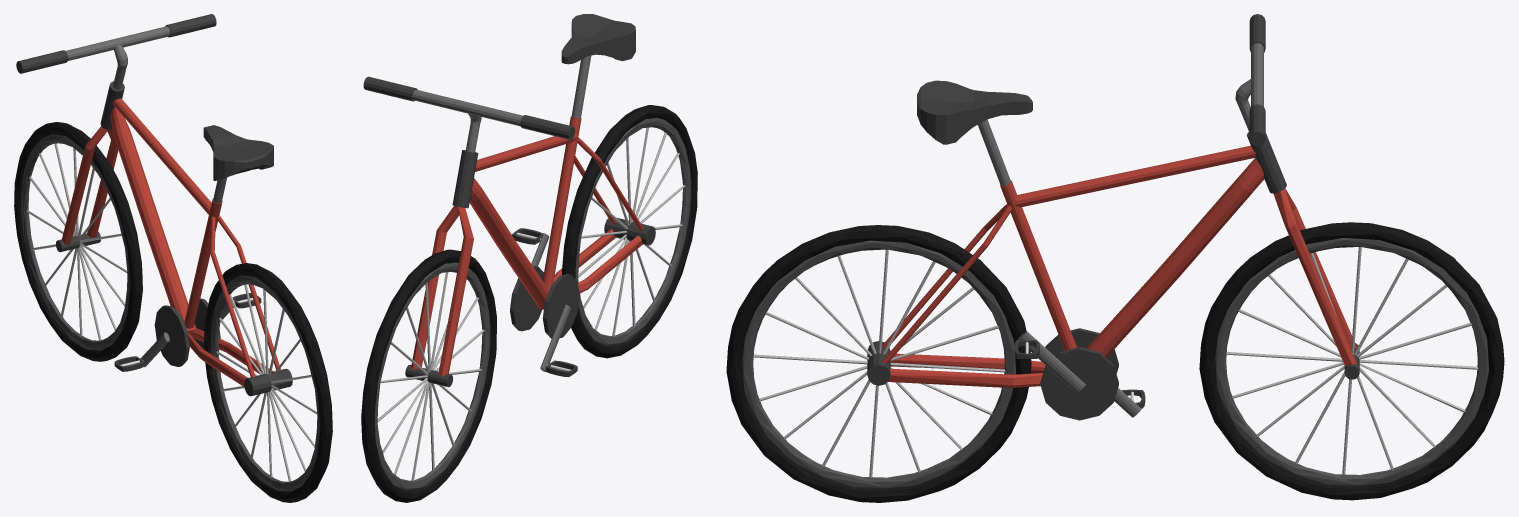
Rendered from bike.glb.
The picture shows the model from 3 angles, left to right: view 1: azimuth 30°, elevation 25°; view 2: azimuth 150°, elevation 25°; view 3: azimuth 270°, elevation 25°; orthographic projection. The views are drawn at different scales.
Visible parts, largest first — view 1: tire front.001, tire front, body bottom, rim back.001, sup back.000, rim back.000, sup back.001, Plane, Cylinder.002, Cylinder, back top, body top (+9 smaller); view 2: tire front, tire front.001, rim back.000, rim back.001, sup back.001, Cylinder.002, sup back.000, Plane, Cylinder, body bottom, body back, Cylinder.005 (+10 smaller); view 3: tire front, tire front.001, rim back.001, rim back.000, sup back.001, sup back.000, body bottom, Cylinder, Plane, pedal gear, body top, Cylinder.002 (+5 smaller).
Boxes of the visible parts, x1,y1,x2,y2 form: tire front.001: (204,263,332,502); tire front: (14,122,142,361); body bottom: (110,107,196,331); rim back.001: (20,134,130,350); sup back.000: (216,284,317,481); rim back.000: (210,275,320,491); sup back.001: (26,143,127,340); Plane: (203,125,273,180); Cylinder.002: (61,126,118,244); Cylinder: (154,298,220,366); back top: (210,215,280,377); body top: (112,98,211,214); tire front: (361,249,496,502); tire front.001: (562,105,697,358); rim back.000: (575,118,691,346); rim back.001: (375,262,490,490); sup back.001: (377,272,484,481); Cylinder.002: (411,206,473,376); sup back.000: (578,127,685,336); Plane: (561,14,635,64); Cylinder: (510,266,579,338); body bottom: (469,178,548,309); body back: (542,116,581,290); Cylinder.005: (363,76,575,139); tire front: (1199,222,1504,500); tire front.001: (726,225,1031,502); rim back.001: (1215,238,1488,486); rim back.000: (742,240,1015,488); sup back.001: (1226,247,1478,475); sup back.000: (753,249,1005,478); body bottom: (1086,157,1264,357); Cylinder: (1040,328,1118,420); Plane: (917,80,1032,144); pedal gear: (888,353,1045,387); body top: (1014,145,1256,207); Cylinder.002: (1273,188,1357,366).
Size of the model in its own units: 7.58 by 12.88 by 21.15.
